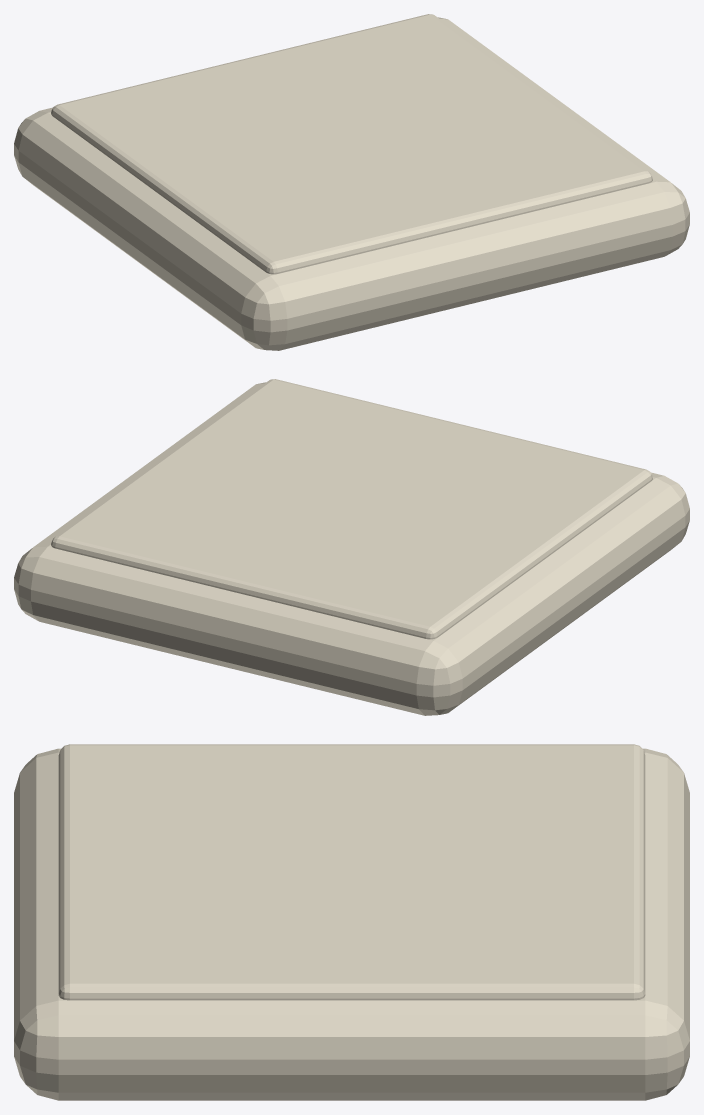
The model's file is roof-2m.glb.
The picture shows the model from 3 angles, top to bottom: view 1: azimuth 30°, elevation 25°; view 2: azimuth 150°, elevation 25°; view 3: azimuth 270°, elevation 25°; orthographic projection. The views are drawn at different scales.
Visible parts, largest first — view 1: roof-2m__ivory; view 2: roof-2m__ivory; view 3: roof-2m__ivory.
Boxes of the visible parts, bbox=[...] form: roof-2m__ivory: bbox=[14, 14, 689, 350]; roof-2m__ivory: bbox=[14, 379, 689, 715]; roof-2m__ivory: bbox=[14, 744, 689, 1100].
Bounding box in the file's own units: 2.04 × 0.36 × 2.04.
